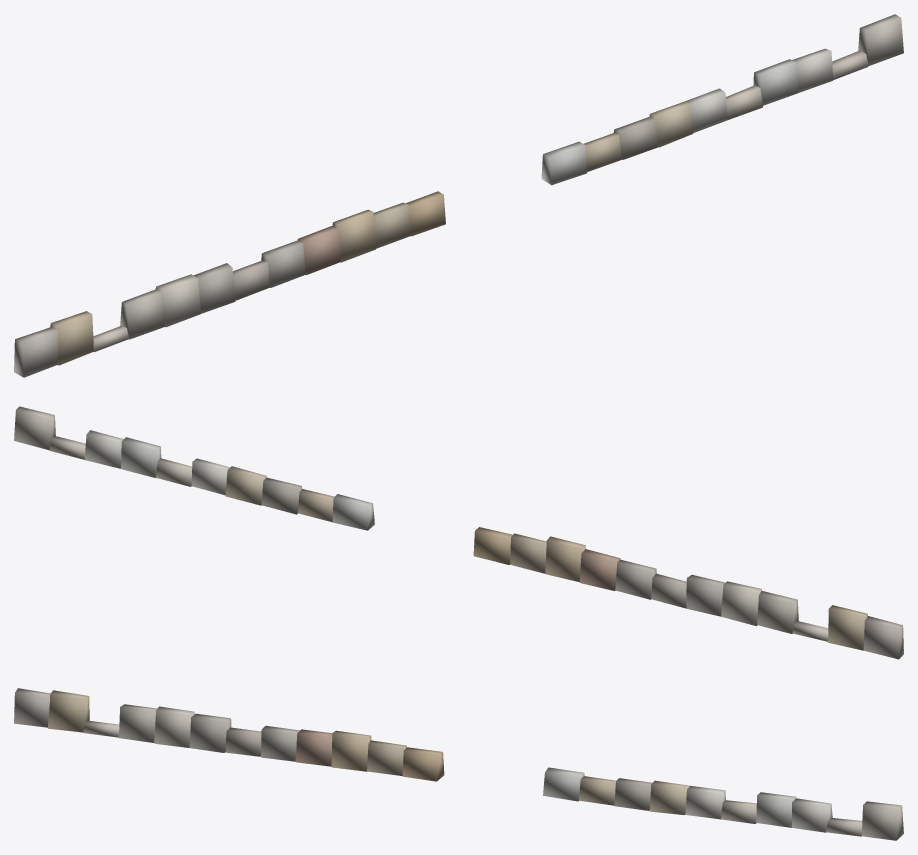
The model's file is farm_26_18_far.glb.
3 views of the same model, one above another, from view 1: azimuth 30°, elevation 25°; view 2: azimuth 150°, elevation 25°; view 3: azimuth 330°, elevation 25° (orthographic). The views are drawn at different scales.
Parts seen in each view (by area): view 1: geometry_0; view 2: geometry_0; view 3: geometry_0.
Part boxes in pixels (x1,y1,x2,y2): geometry_0: (14, 14, 903, 377); geometry_0: (14, 406, 903, 659); geometry_0: (14, 688, 903, 840).
Bounding box in the file's own units: 39.39 × 3.66 × 4.62.
